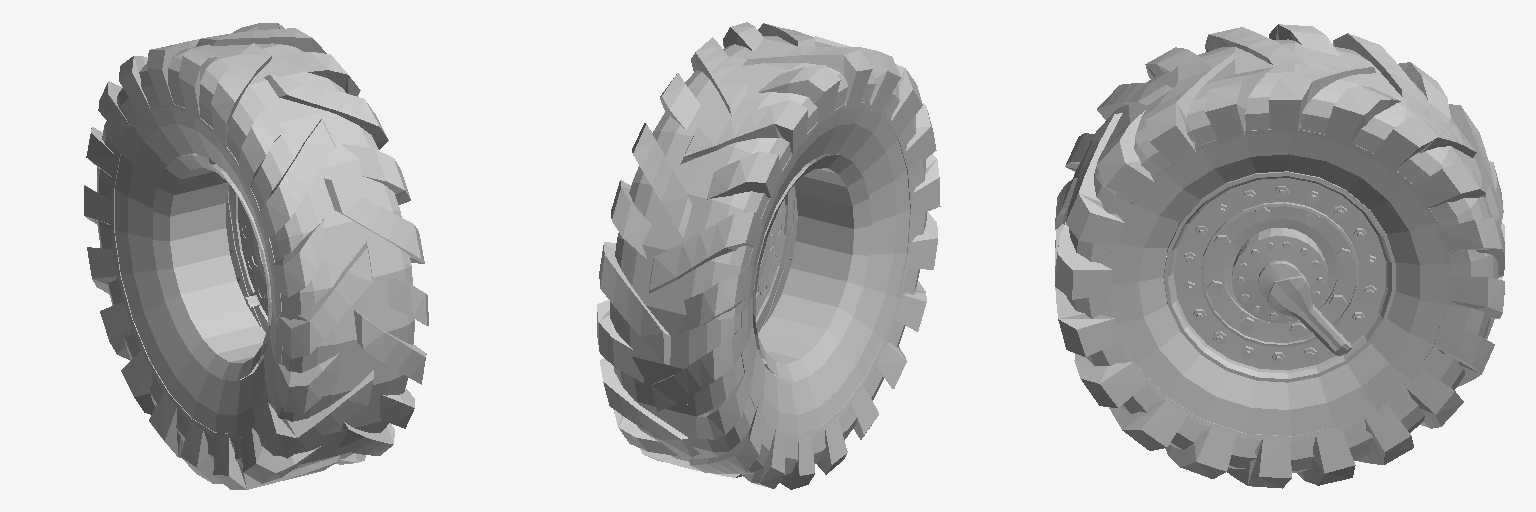
The model's file is wheel.obj.
3 renders of one model, left to right at view 1: azimuth 30°, elevation 25°; view 2: azimuth 150°, elevation 25°; view 3: azimuth 270°, elevation 25°, orthographic.
Visible parts, largest first — view 1: drive_disk_back_left_wheel_rf05.003; view 2: drive_disk_back_left_wheel_rf05.003; view 3: drive_disk_back_left_wheel_rf05.003.
Part boxes in pixels (bbox=[...]): drive_disk_back_left_wheel_rf05.003: bbox=[84, 23, 428, 489]; drive_disk_back_left_wheel_rf05.003: bbox=[597, 22, 940, 489]; drive_disk_back_left_wheel_rf05.003: bbox=[1055, 24, 1504, 488].
Size of the model in its own units: 0.3975 by 1.12 by 1.12.